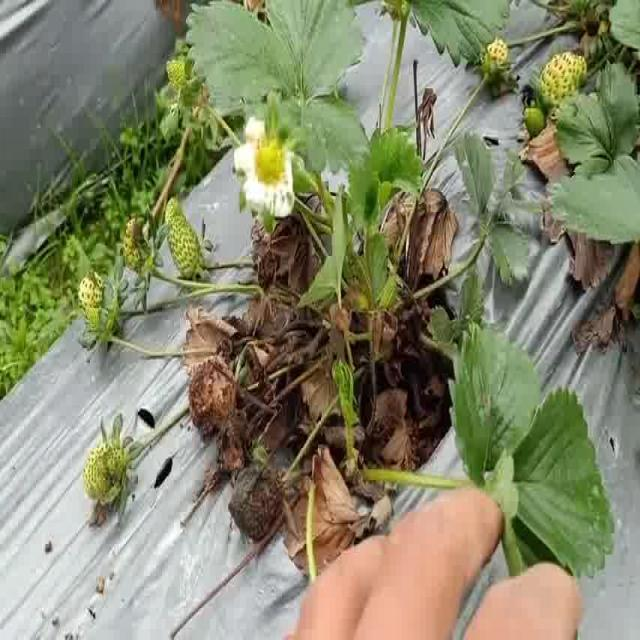Mancha negra Antracnosis: (225, 458, 288, 547), (187, 353, 237, 442)
